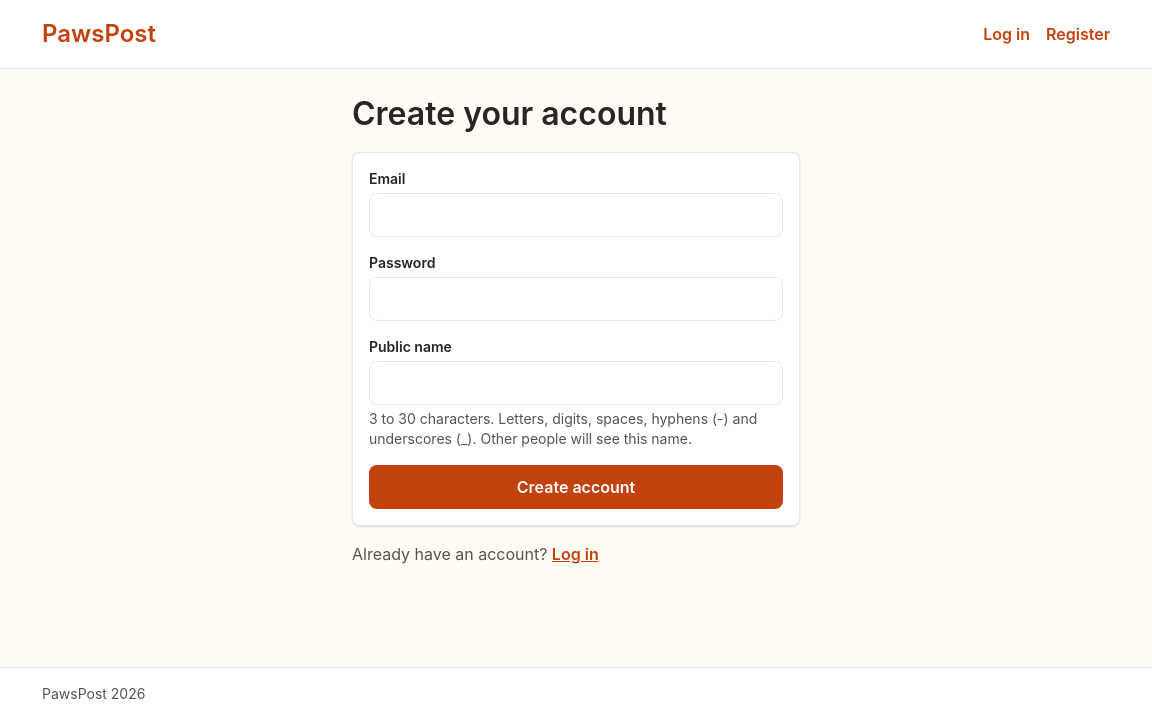
Test: RegisterPage › shows the email taken message with a link to log in on a 409 and no technical text
The width and height of the screenshot is (1152, 720).
Type "sara@example.com" into the field labelled "Email" at (576, 215), box [369,193,783,237]
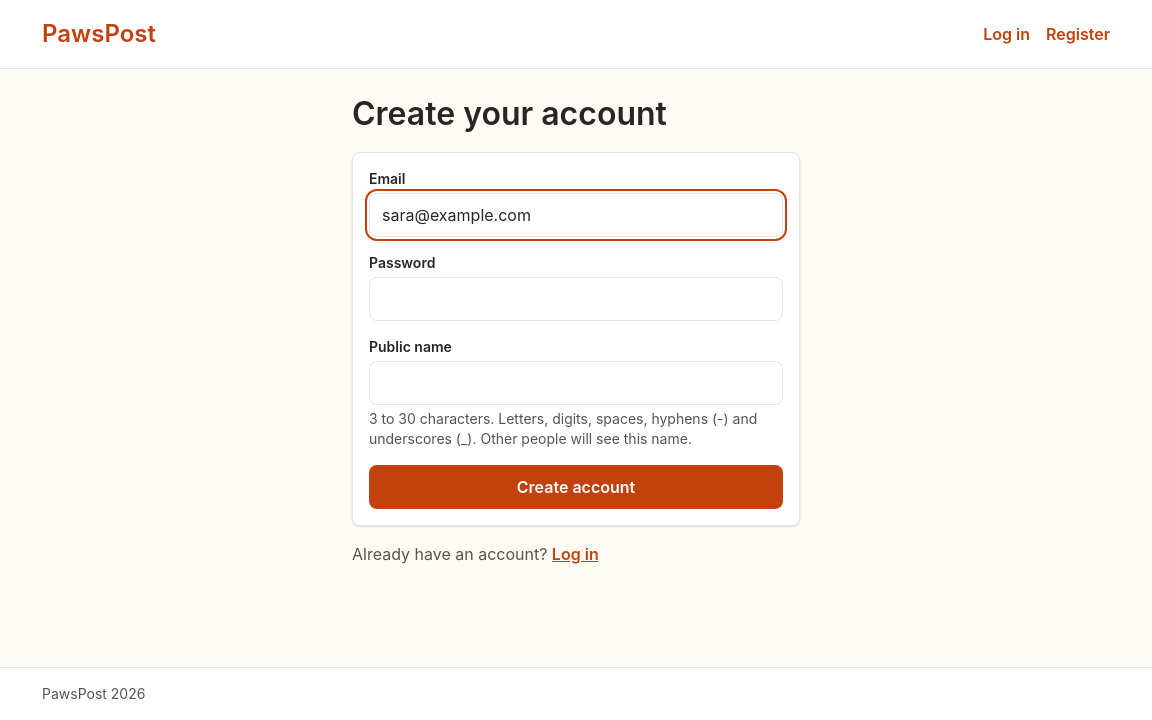
Type "Secret1!" into the password field labelled "Password" at (576, 299), box [369,277,783,321]
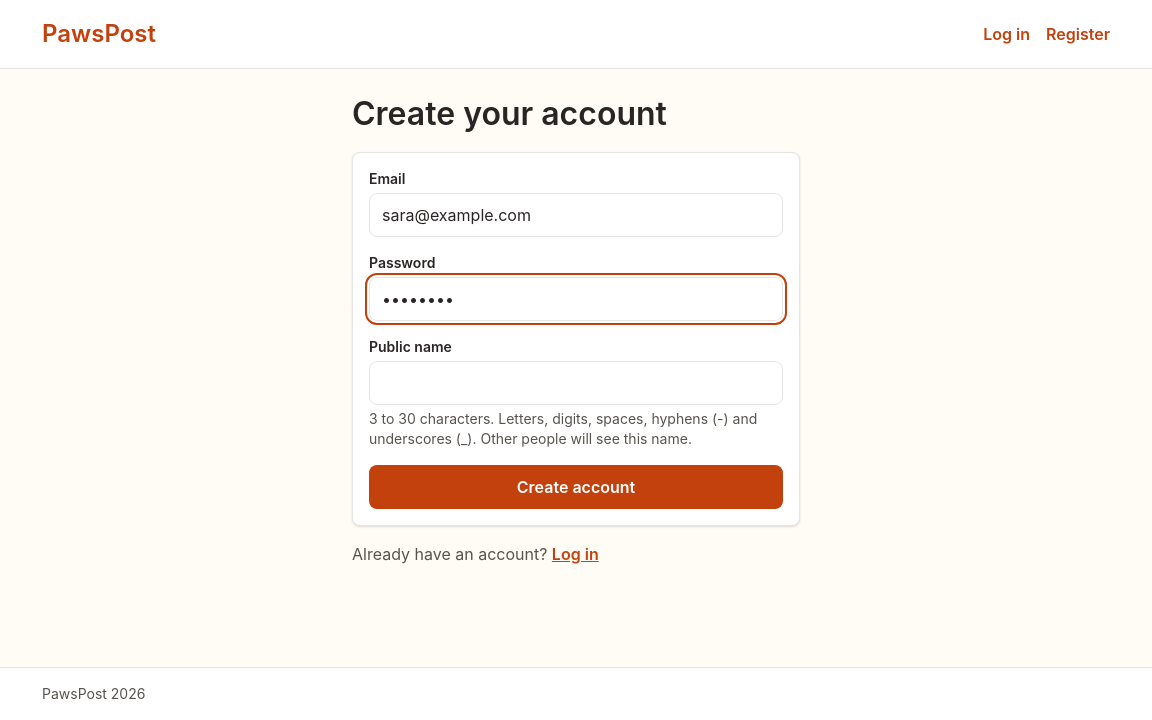
Type "Sara Test" into the field labelled "Public name" at (576, 383), box [369,361,783,405]
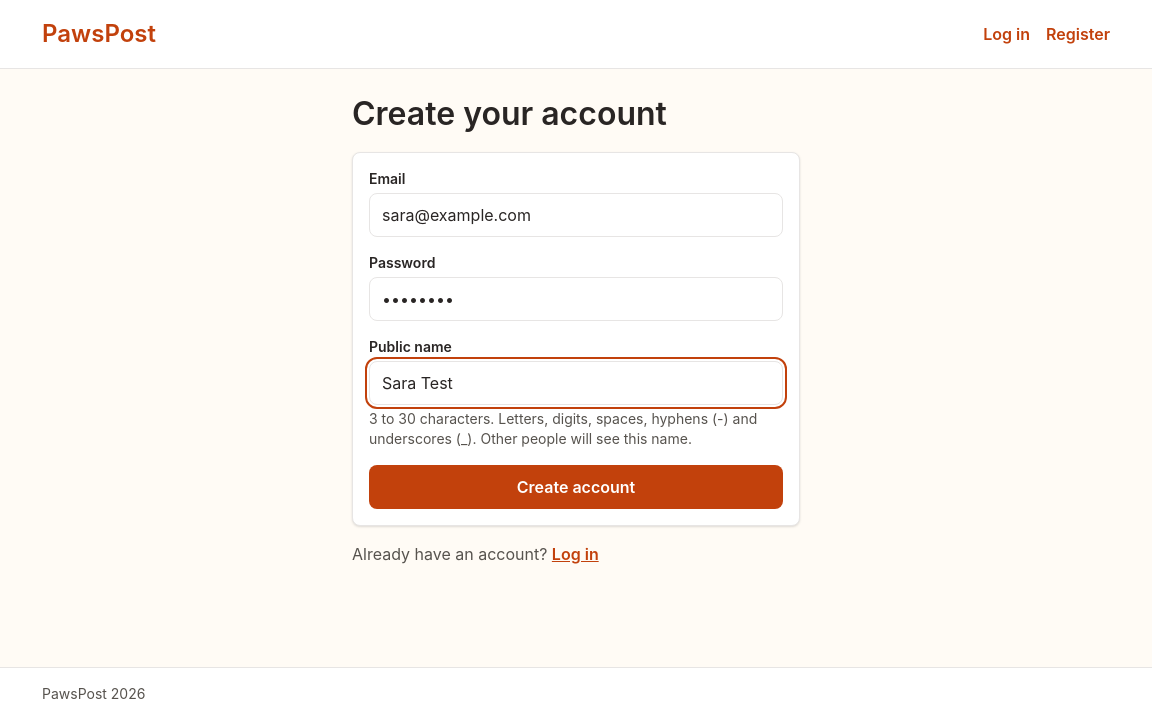
Click the button "Create account" at (576, 487), box [369,465,783,509]
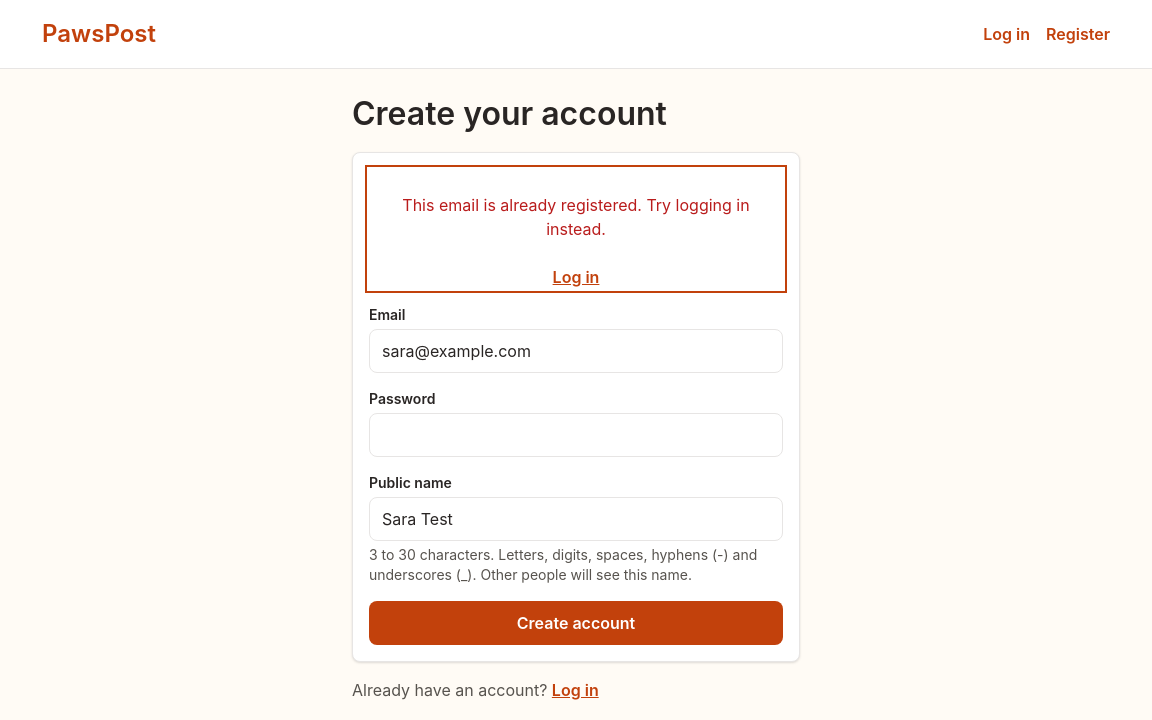
Now the message reads "This email is already registered. Try logging in instead.", box [402,195,750,239]
